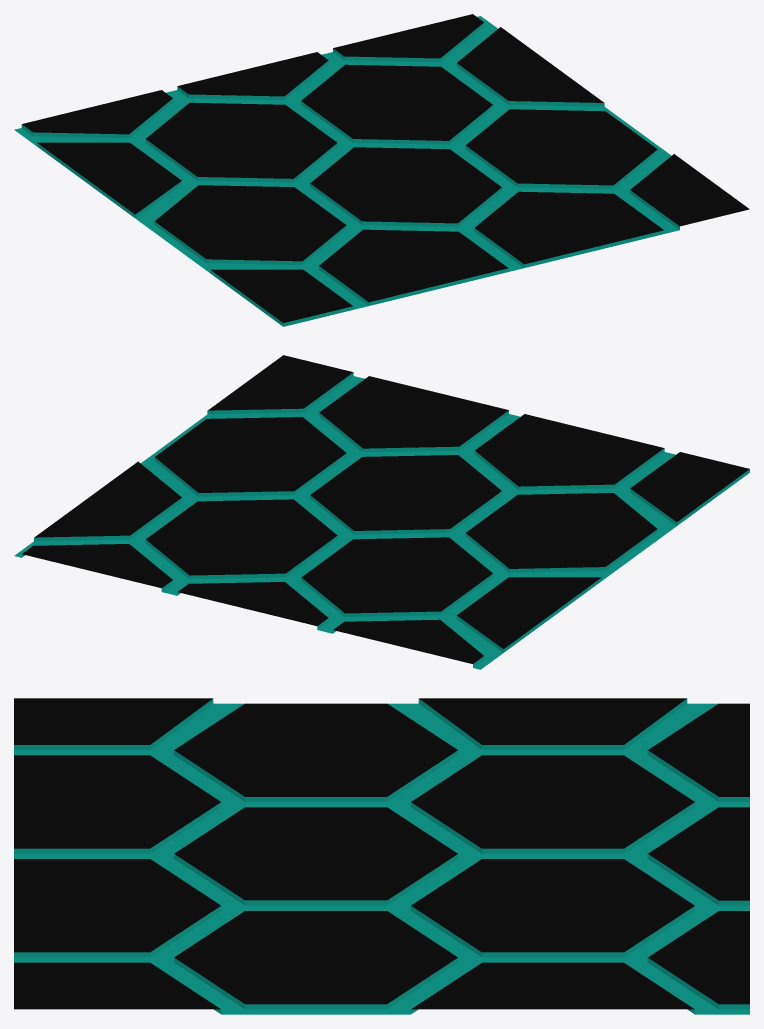
Rendered from HexagonFloor_Small.glb.
The picture shows the model from 3 angles, top to bottom: view 1: azimuth 30°, elevation 25°; view 2: azimuth 150°, elevation 25°; view 3: azimuth 270°, elevation 25°; orthographic projection. The views are drawn at different scales.
Parts seen in each view (by area): view 1: hexagonFloorTile_small.001; view 2: hexagonFloorTile_small.001; view 3: hexagonFloorTile_small.001.
Boxes of the visible parts, x1,y1,x2,y2 form: hexagonFloorTile_small.001: (14, 14, 749, 326); hexagonFloorTile_small.001: (14, 355, 749, 669); hexagonFloorTile_small.001: (14, 698, 749, 1014).
Size of what is drawn, in the model's own units: 2 by 0.0154 by 2.
Materials: 1 (1 with a texture image).
